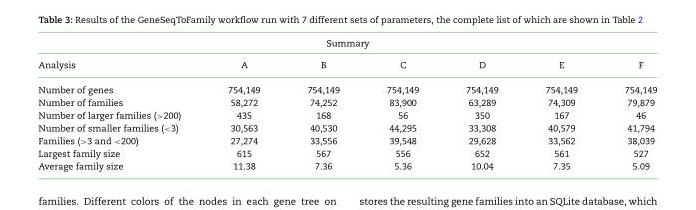table: (37, 37, 656, 171)
table column: (37, 37, 203, 171), (203, 37, 283, 171), (441, 37, 521, 171), (283, 37, 362, 171), (362, 37, 441, 171), (521, 37, 600, 171), (600, 37, 656, 171)
table column header: (37, 37, 656, 76)
table row: (37, 53, 656, 76), (37, 76, 656, 95), (37, 37, 656, 53), (37, 95, 656, 108), (37, 108, 656, 121), (37, 133, 656, 146), (37, 146, 656, 159), (37, 121, 656, 133), (37, 159, 656, 171)
table spanning cell: (37, 37, 656, 53)
